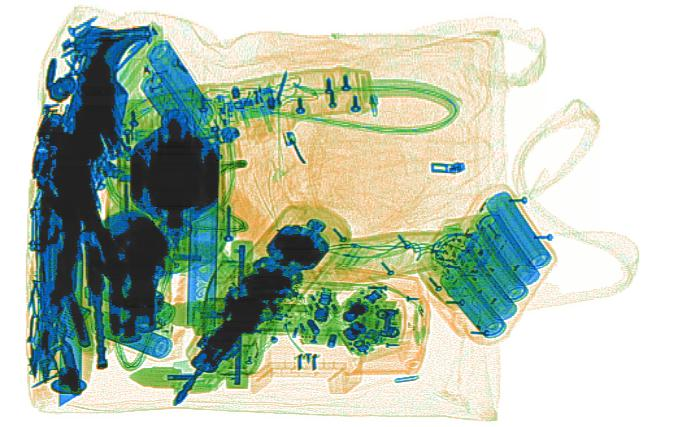battery: (438, 190, 551, 339), (139, 40, 215, 150), (91, 311, 168, 357)
knife: (185, 138, 224, 340)
